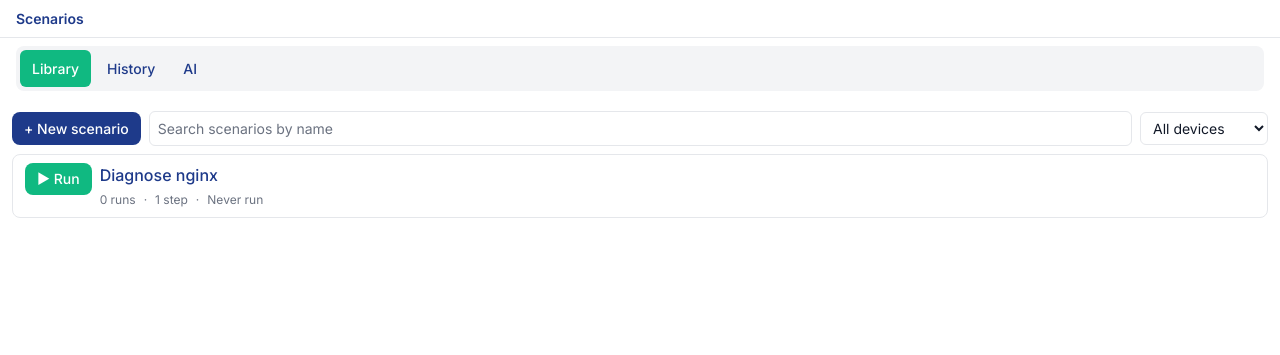
Scenario: ScenariosPanel — AI segment widening › clicking the AI pill mounts ScenariosAISegment
The image size is (1280, 355).
Click the tab with test id "scenarios-panel-segment-ai": point(190, 68) [171, 50, 209, 87]
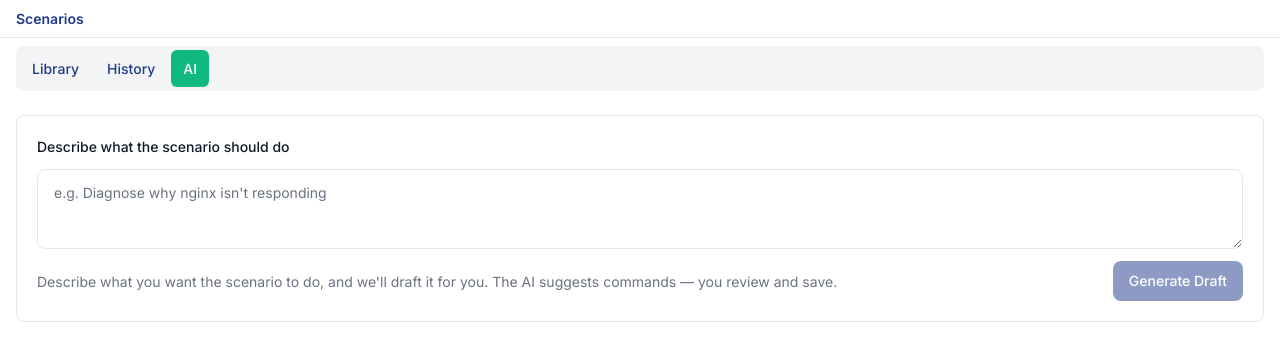
Result: the element with test id "scenarios-ai-segment" is shown
Result: the text box labelled "Describe what the scenario should do" is shown at [37, 169, 1243, 249]
